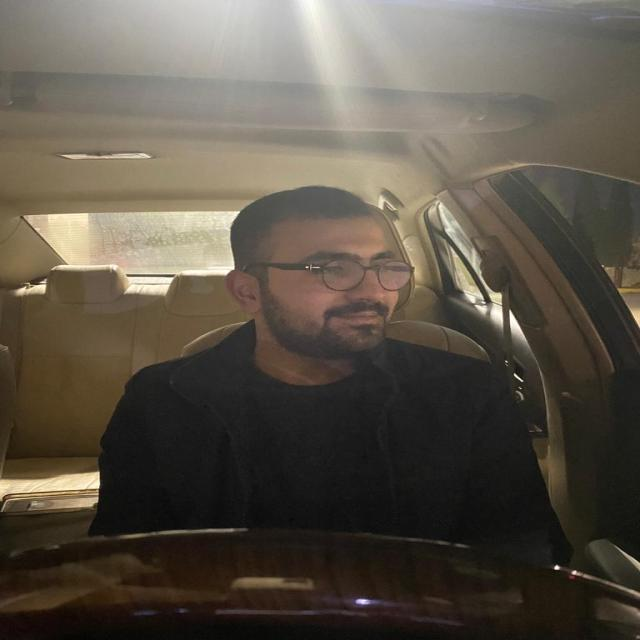person: (219, 188, 430, 359)
